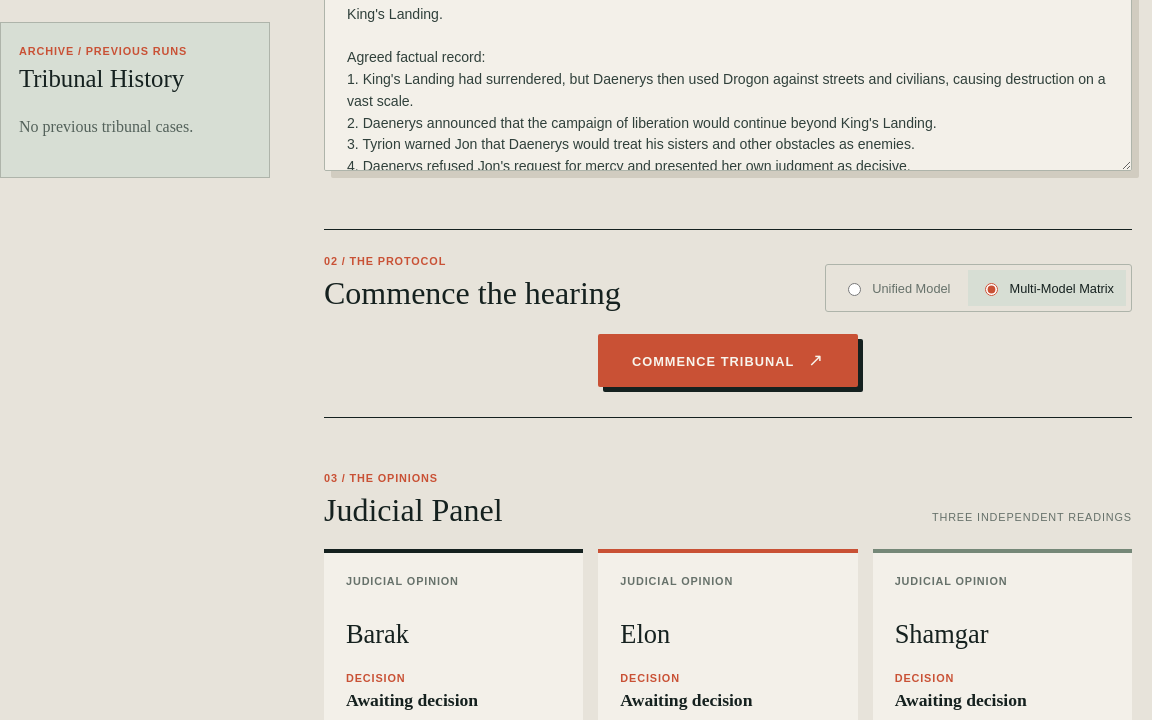
Scenario: Tribunal API integration › should show a visible error when the tribunal request fails
This screenshot has width=1152, height=720.
(page scrolled)
Click the button "Commence Tribunal↗": (728, 361) x1=598 y1=334 x2=858 y2=388
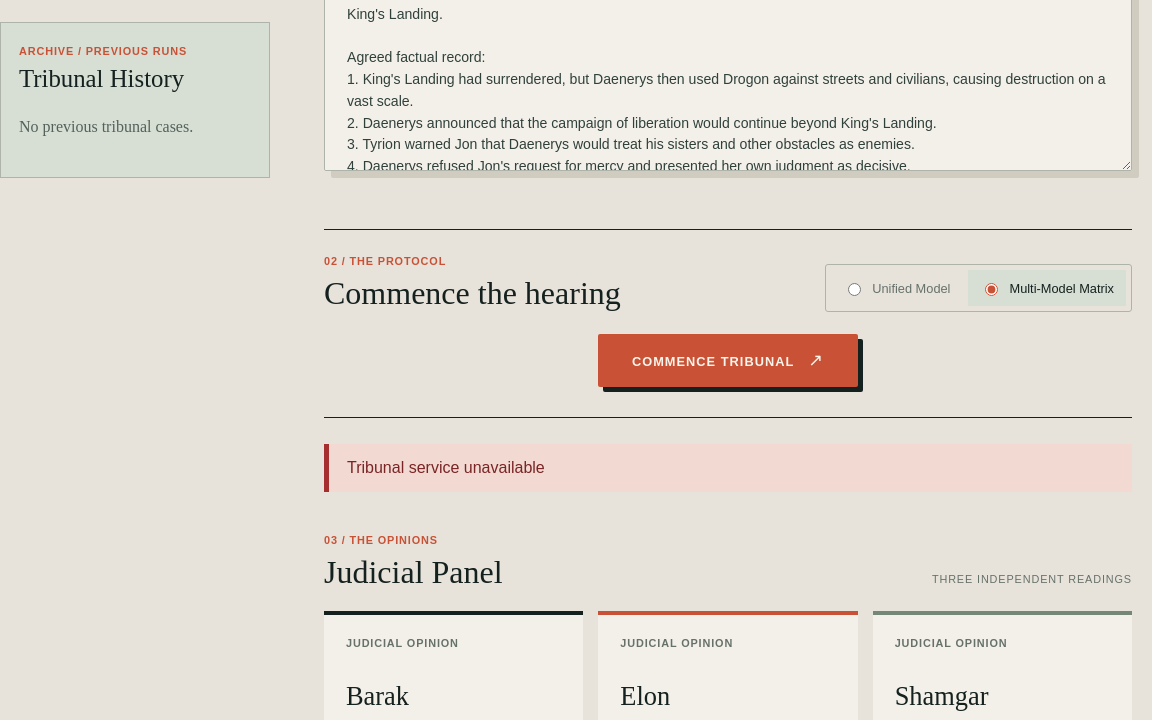
Expected: the message reads "Tribunal service unavailable", x1=347 y1=460 x2=545 y2=476
